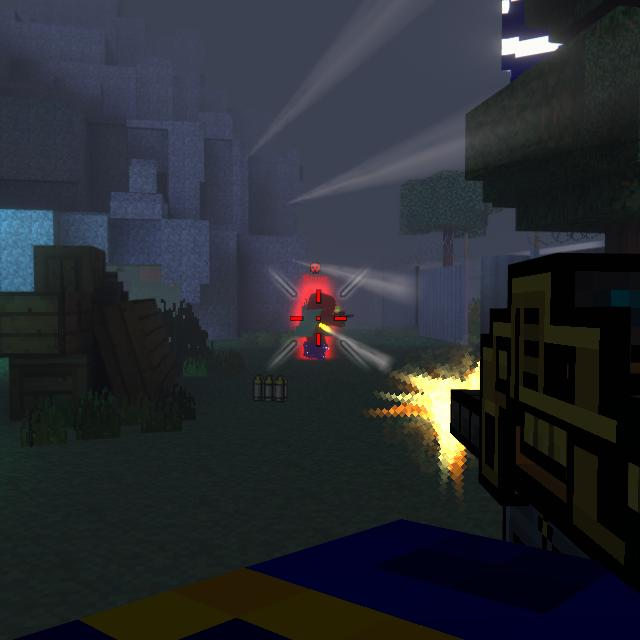Enemy: (300, 295, 341, 362)
